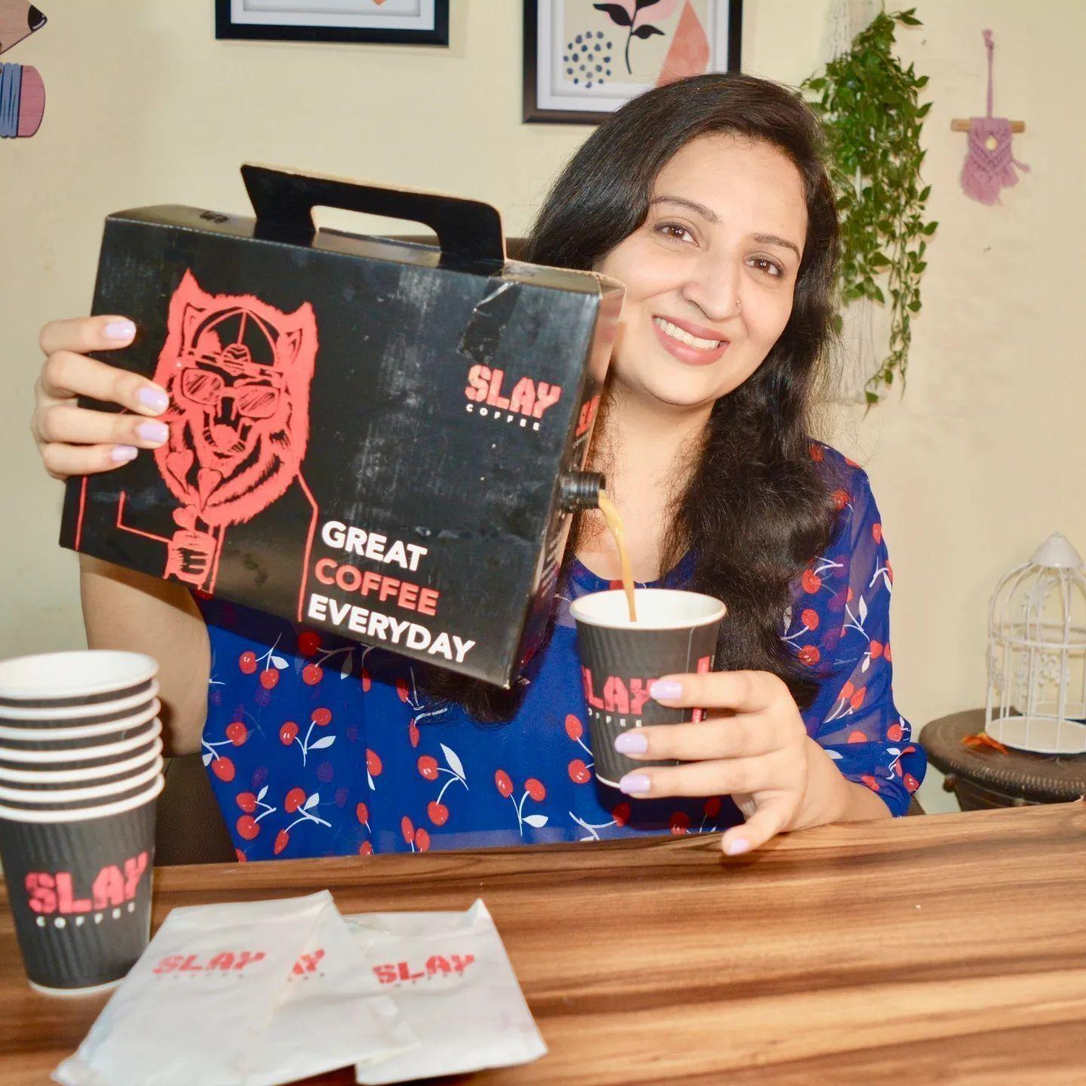cup-disposable: (0, 781, 173, 1008), (569, 578, 728, 797)
